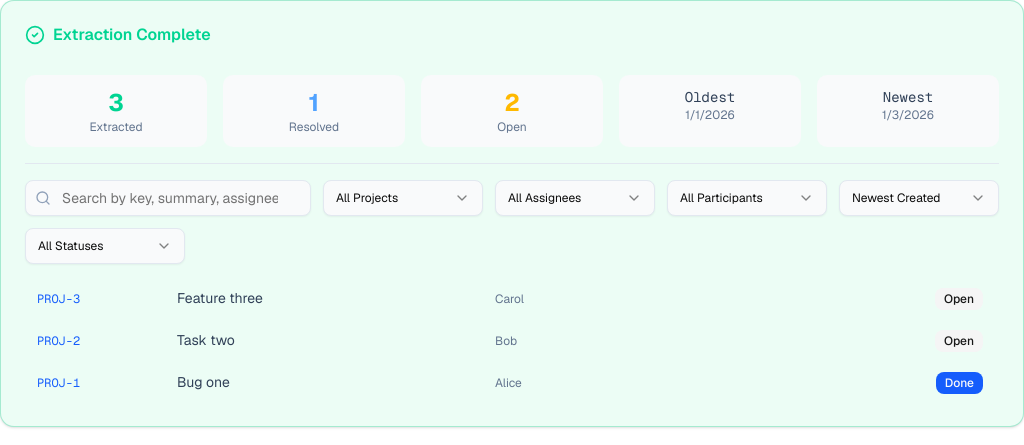
ExtractionPreviewTable › filters rows by search query
Type "Feature" into the field with placeholder "Search by key, summary, assignee, or participant..." at (168, 198), box x1=25 y1=180 x2=311 y2=216
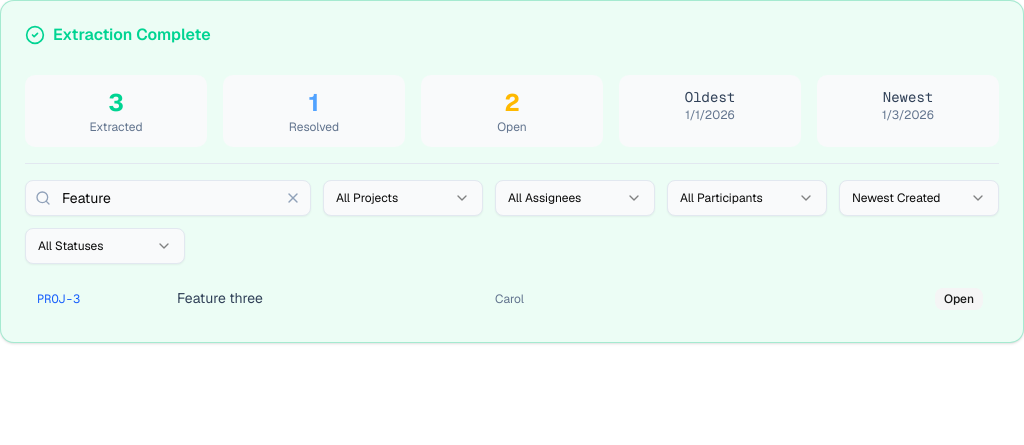
Expected: the link "PROJ-3" is shown, x1=37 y1=291 x2=80 y2=307
Now the link "PROJ-2" is gone
